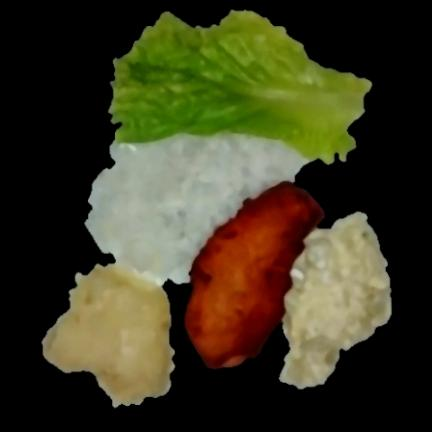chicken: (184, 182, 324, 367)
potato: (44, 265, 173, 406)
rice: (85, 133, 305, 283)
salad: (109, 11, 371, 162)
